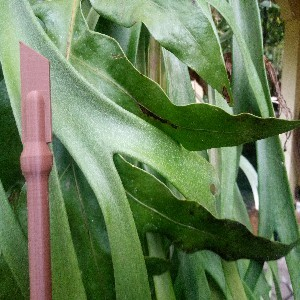cutter: (17, 37, 53, 300)
